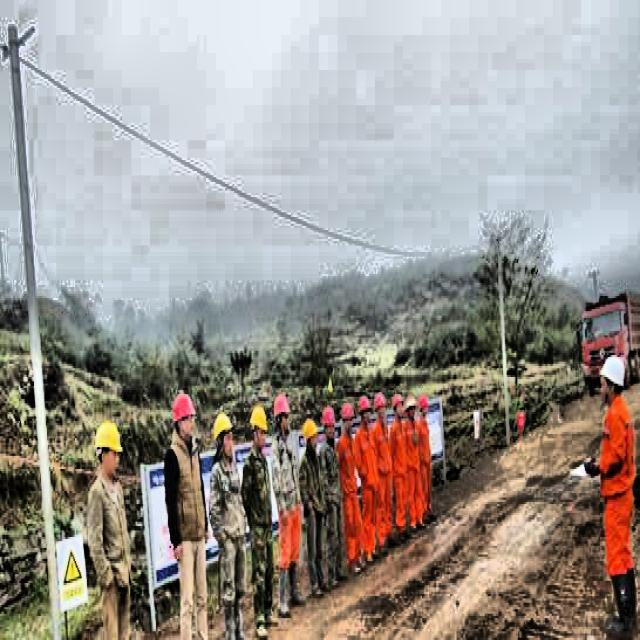helmet: (93, 419, 123, 480), (170, 388, 197, 447), (599, 350, 626, 408), (211, 412, 234, 463), (248, 403, 268, 454), (270, 390, 290, 436), (301, 414, 319, 460), (340, 399, 355, 438), (322, 405, 336, 445), (358, 392, 372, 432), (373, 388, 387, 425), (392, 390, 404, 425)
